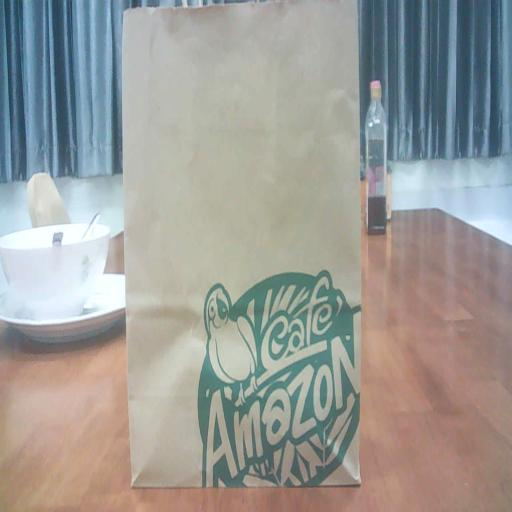bag: (120, 0, 365, 498)
